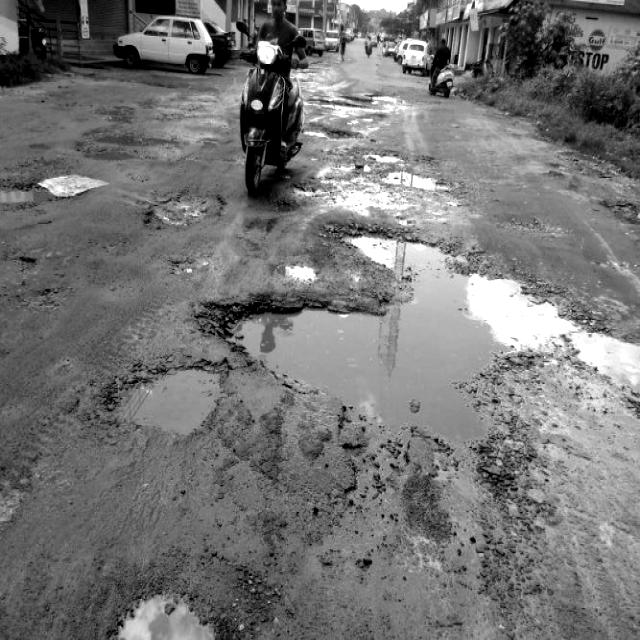pathole: (202, 218, 640, 547), (83, 341, 254, 465), (0, 120, 193, 208), (92, 541, 258, 640), (327, 152, 489, 241), (526, 134, 640, 240), (314, 73, 405, 167)
